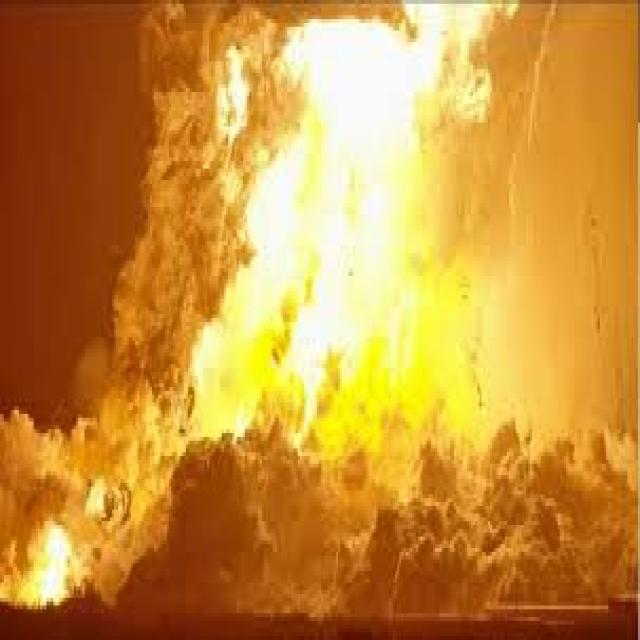explosion: (99, 0, 640, 623)
